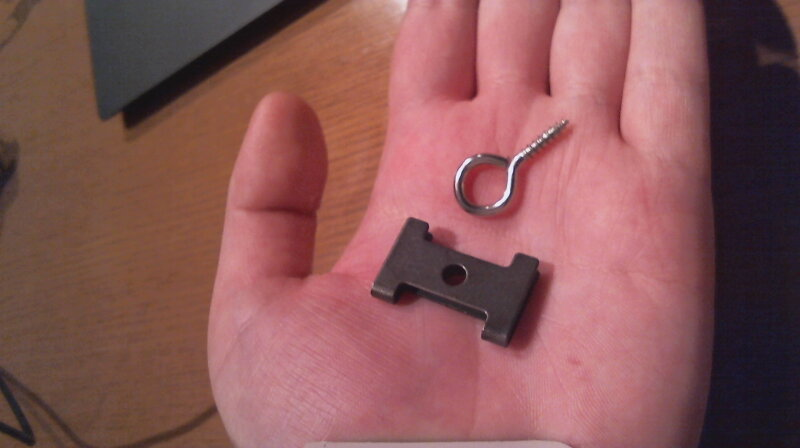O001: (448, 113, 574, 221)
O002: (366, 215, 548, 351)
